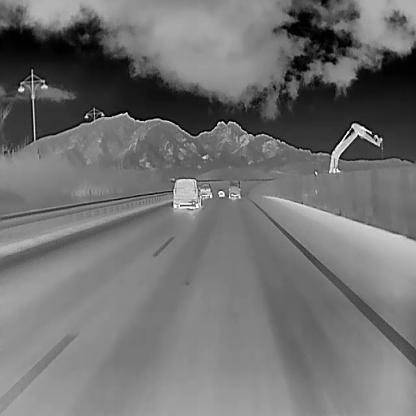car: (171, 177, 201, 209), (228, 178, 241, 200), (199, 182, 212, 198), (217, 188, 225, 197)
